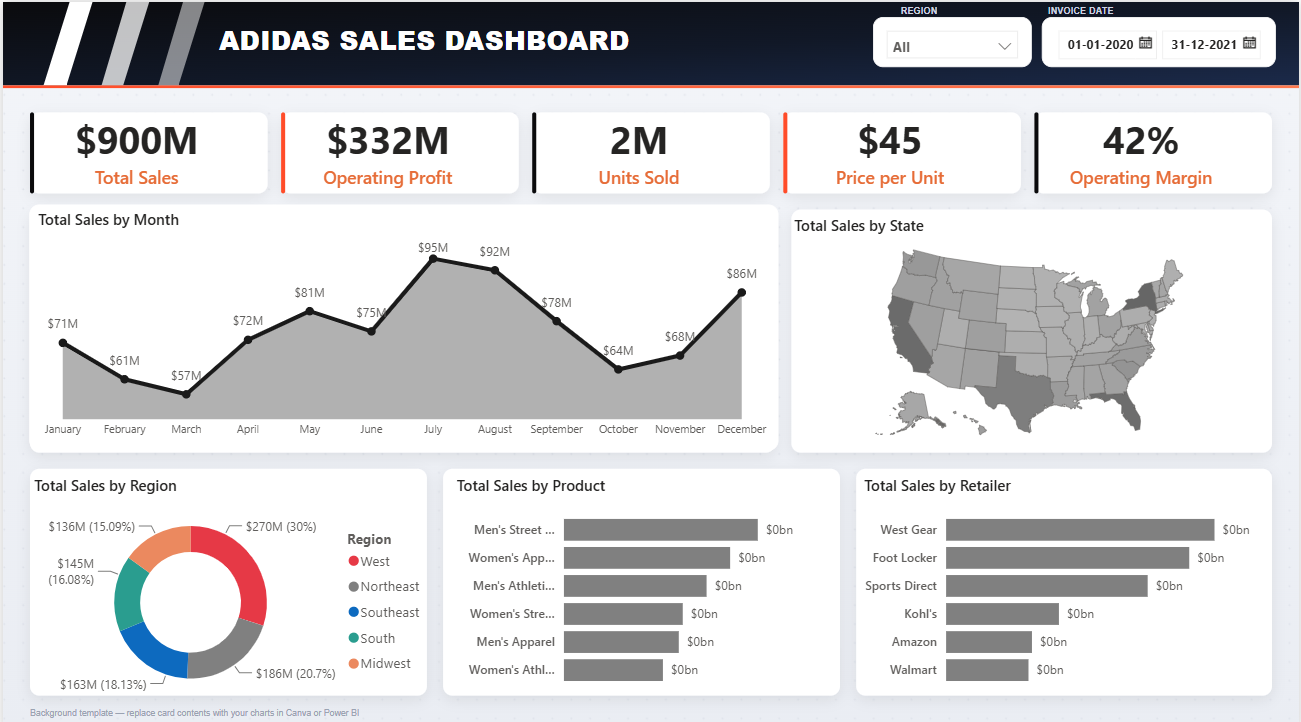

The page's visual inventory and layout, read from the dashboard file:
{"tool":"powerbi","page":{"name":"Page 1","canvas":[1280,720],"ordinal":0},"visuals":[{"type":"cardVisual","fields":{"Data":["Sum(Data Sales Adidas.Total Sales)","Sum(Data Sales Adidas.Operating Profit)","Sum(Data Sales Adidas.Units Sold)","Avg(Data Sales Adidas.Price per Unit)","Avg(Data Sales Adidas.Operating Margin)"]},"box":[0,83.6,1256.7,126.9],"z":0},{"type":"areaChart","title":"Total Sales by Month","fields":{"Category":["Data Sales Adidas.Invoice Date.Variation.Date Hierarchy.Month"],"Y":["Sum(Data Sales Adidas.Total Sales)"]},"box":[25.4,200,740.3,243.3],"z":1000},{"type":"shapeMap","title":"Total Sales by State","fields":{"Category":["Data Sales Adidas.State"],"Value":["Sum(Data Sales Adidas.Total Sales)"]},"box":[776.1,210.4,474.6,232.8],"z":2000},{"type":"donutChart","fields":{"Category":["Data Sales Adidas.Region"],"Y":["Sum(Data Sales Adidas.Total Sales)"]},"box":[25.4,467.2,400,232.8],"z":3000},{"type":"barChart","fields":{"Y":["Sum(Data Sales Adidas.Total Sales)"],"Category":["Data Sales Adidas.Product"]},"box":[443.3,467.2,391,220.9],"z":4000},{"type":"barChart","fields":{"Y":["Sum(Data Sales Adidas.Total Sales)"],"Category":["Data Sales Adidas.Retailer"]},"box":[846.3,467.2,391,220.9],"z":5000},{"type":"slicer","fields":{"Values":["Data Sales Adidas.Region"]},"box":[859.7,14.9,156.7,49.3],"z":6000},{"type":"slicer","fields":{"Values":["Data Sales Adidas.Invoice Date"]},"box":[1025.4,14.9,231.3,49.3],"z":7000}]}

Visuals, with their boxes in screenshot pixels (x1, y1, x2, y2), scaled from the page's 1280x720 canvas onto the 1301x722 screenshot:
cardVisual - Sum(Data Sales Adidas.Total Sales) x Sum(Data Sales Adidas.Operating Profit): 0 84 1277 211
"Total Sales by Month" areaChart: 26 201 778 445
"Total Sales by State" shapeMap: 789 211 1271 444
donutChart - Data Sales Adidas.Region x Sum(Data Sales Adidas.Total Sales): 26 468 432 702
barChart - Sum(Data Sales Adidas.Total Sales) x Data Sales Adidas.Product: 451 468 848 690
barChart - Sum(Data Sales Adidas.Total Sales) x Data Sales Adidas.Retailer: 860 468 1258 690
slicer - Data Sales Adidas.Region: 874 15 1033 64
slicer - Data Sales Adidas.Invoice Date: 1042 15 1277 64
